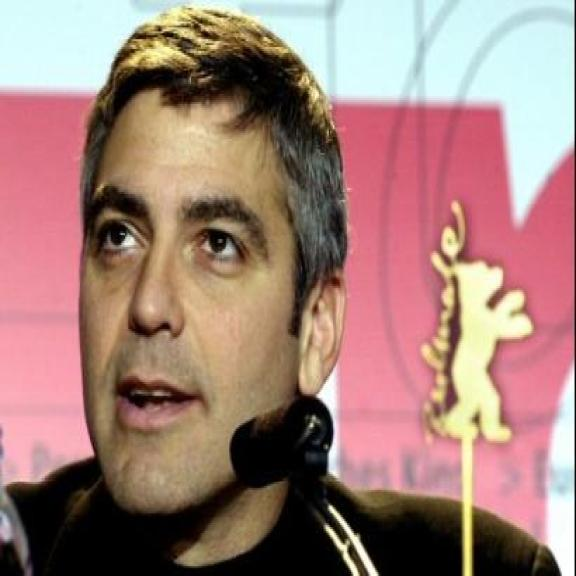face: (78, 78, 345, 519)
